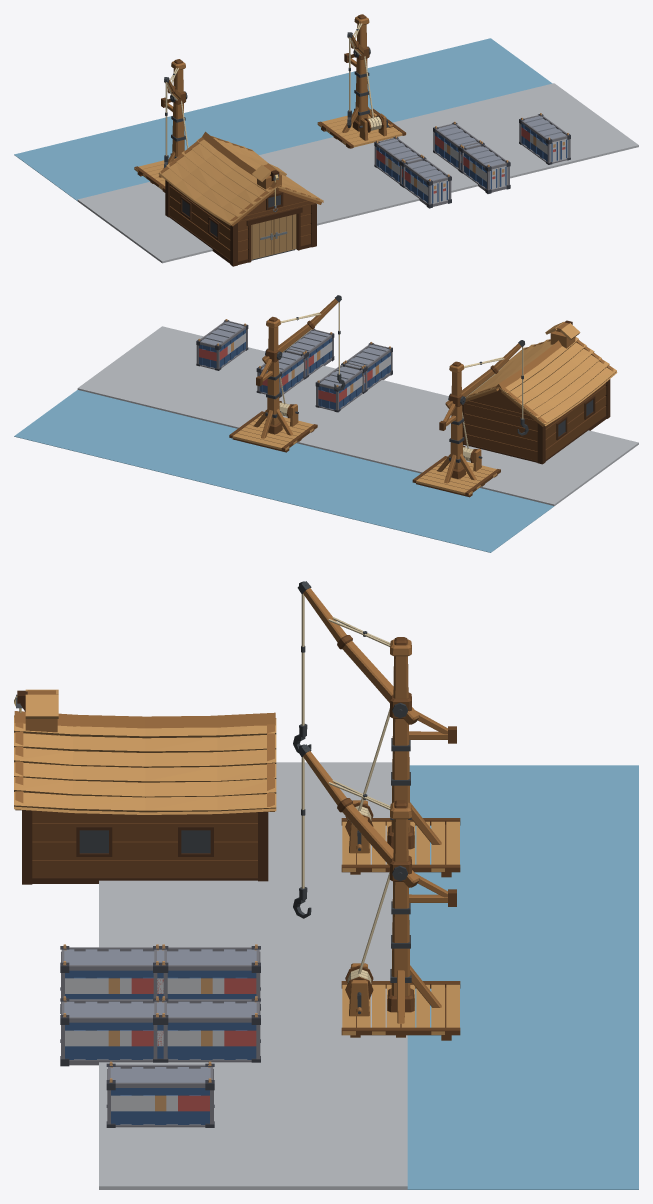
Rendered from port.glb.
The picture shows the model from 3 angles, top to bottom: view 1: azimuth 30°, elevation 25°; view 2: azimuth 150°, elevation 25°; view 3: azimuth 270°, elevation 25°; orthographic projection. The views are drawn at different scales.
Parts seen in each view (by area): view 1: ground (×2), warehouse-shell, container-body (×5), dock-cargo-crane (×2), door-r-leaf, door-l-leaf; view 2: ground (×2), warehouse-shell, container-body (×5), dock-cargo-crane (×2), boom-lower (×2); view 3: ground (×2), warehouse-shell, container-body (×5), dock-cargo-crane (×2), boom-lower (×2).
Part boxes in pixels (x1=…): ground (×2): x1=14, y1=38, x2=638, y2=263; warehouse-shell: x1=158, y1=131, x2=323, y2=266; container-body (×5): x1=374, y1=114, x2=570, y2=208; dock-cargo-crane (×2): x1=134, y1=14, x2=406, y2=192; door-r-leaf: x1=273, y1=214, x2=296, y2=254; door-l-leaf: x1=251, y1=220, x2=273, y2=259; ground (×2): x1=14, y1=326, x2=638, y2=552; warehouse-shell: x1=462, y1=320, x2=617, y2=464; container-body (×5): x1=196, y1=320, x2=392, y2=412; dock-cargo-crane (×2): x1=229, y1=316, x2=500, y2=497; boom-lower (×2): x1=262, y1=320, x2=498, y2=408; ground (×2): x1=99, y1=762, x2=638, y2=1189; warehouse-shell: x1=14, y1=689, x2=276, y2=884; container-body (×5): x1=60, y1=946, x2=260, y2=1127; dock-cargo-crane (×2): x1=341, y1=637, x2=460, y2=1040; boom-lower (×2): x1=337, y1=635, x2=419, y2=887.
Bounding box in the file's own units: 130 × 34 × 81.
